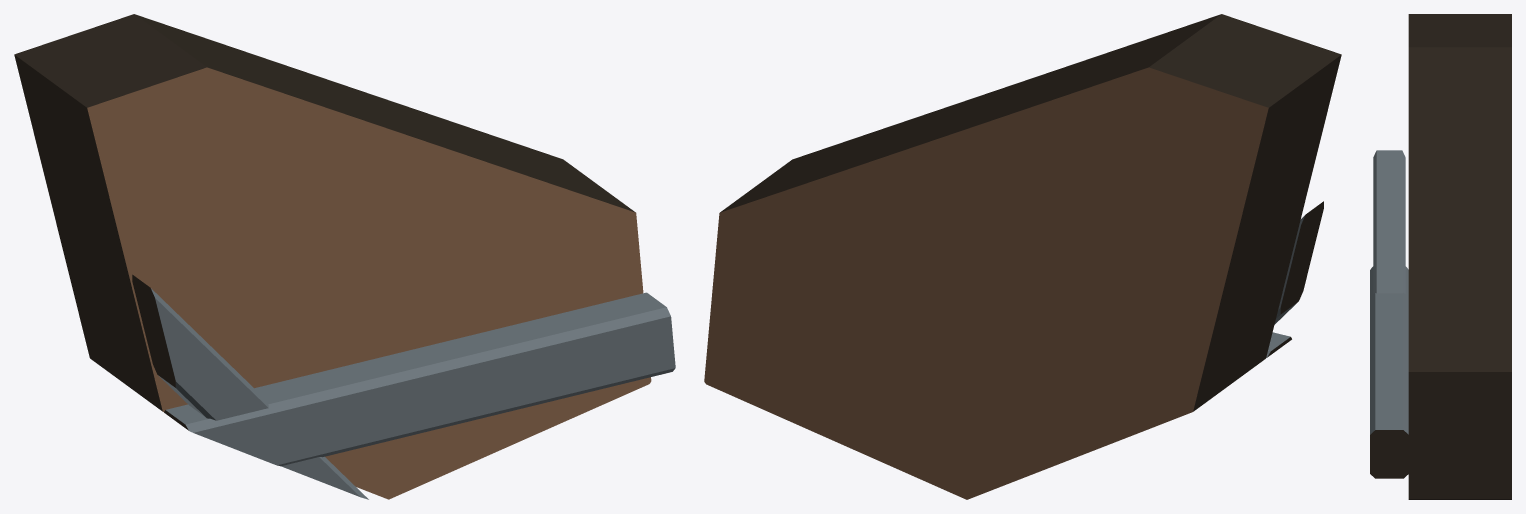
The model's file is SM_DoorShard_03_71.fbx.
The picture shows the model from 3 angles, left to right: view 1: azimuth 30°, elevation 25°; view 2: azimuth 150°, elevation 25°; view 3: azimuth 270°, elevation 25°; orthographic projection. The views are drawn at different scales.
Parts seen in each view (by area): view 1: SM_DoorShard_03_71; view 2: SM_DoorShard_03_71; view 3: SM_DoorShard_03_71.
Boxes of the visible parts, left/top/right/bottom form: SM_DoorShard_03_71: left=14, top=14, right=675, bottom=499; SM_DoorShard_03_71: left=704, top=14, right=1341, bottom=499; SM_DoorShard_03_71: left=1370, top=14, right=1511, bottom=499.
Bounding box in the file's own units: 71.46 × 22 × 57.68.
